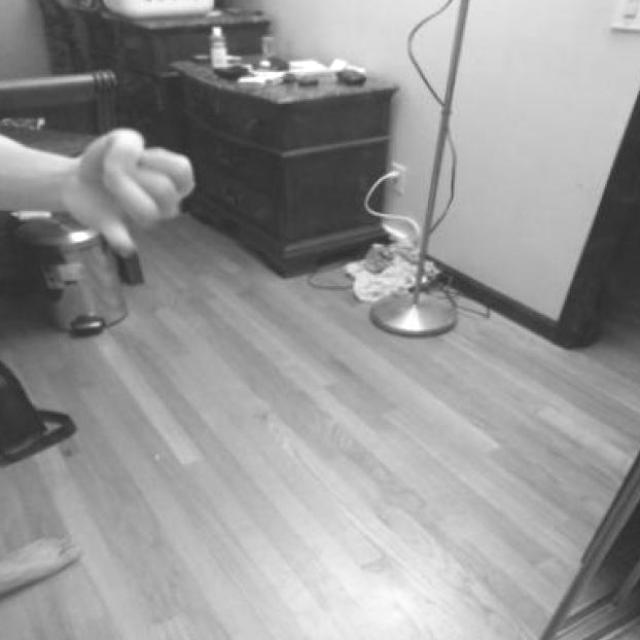J: (60, 115, 217, 269)
